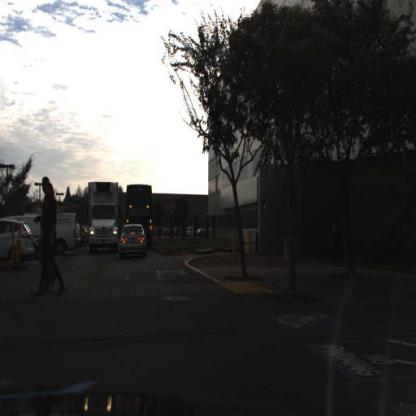car: (40, 212, 84, 253), (118, 224, 147, 259), (60, 210, 81, 253)
pedestrian: (37, 177, 67, 299)
truck: (87, 179, 121, 255), (126, 180, 153, 250)
